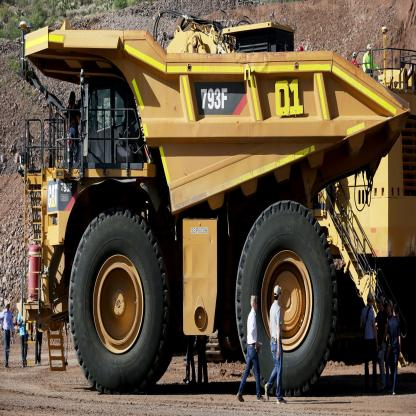dump_truck: (22, 13, 415, 394)
person: (237, 284, 264, 411), (268, 280, 291, 401), (357, 286, 379, 395), (384, 293, 400, 398), (2, 295, 15, 369)
